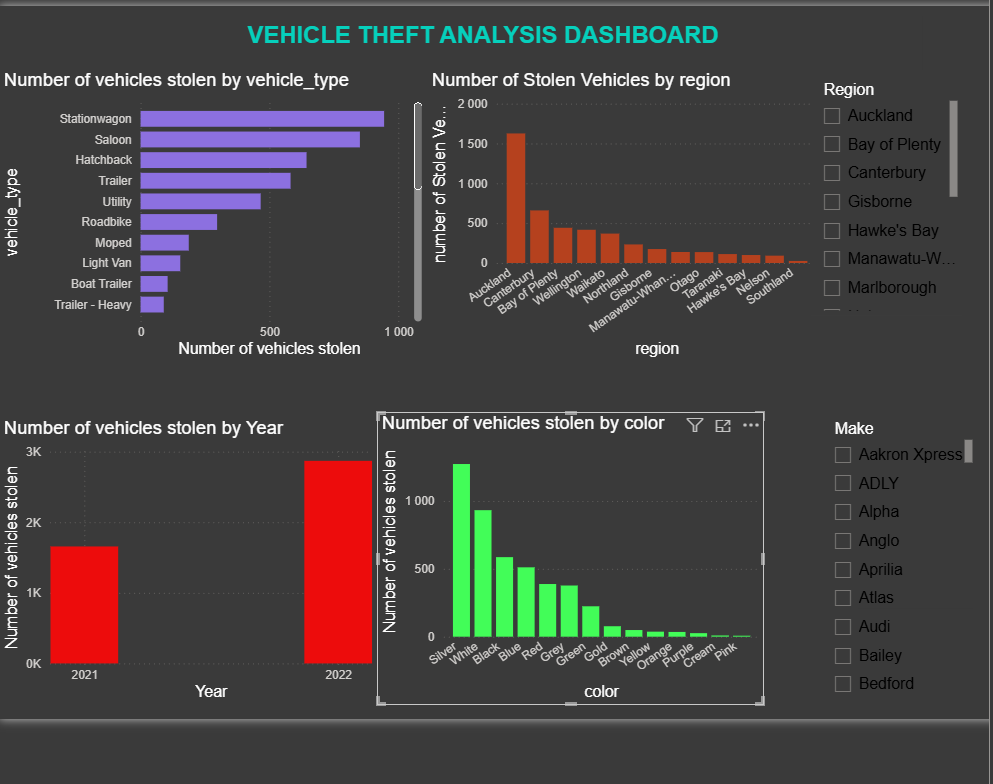

Layout of this report page (visuals, bound fields, positions):
{"tool":"powerbi","page":{"name":"Page 1","canvas":[1280,720],"ordinal":0},"visuals":[{"type":"columnChart","fields":{"Y":["CountNonNull(stolen_vehicles.vehicle_id)"],"Category":["stolen_vehicles.date_stolen.Variation.Date Hierarchy.Year"]},"box":[0,420.2,265.7,300],"z":0},{"type":"clusteredColumnChart","title":"Number of Stolen Vehicles by region","fields":{"Category":["locations.region"],"Y":["CountNonNull(stolen_vehicles.vehicle_id)"]},"box":[316.2,63.6,357.6,296],"z":1000},{"type":"barChart","fields":{"Y":["CountNonNull(stolen_vehicles.vehicle_id)"],"Category":["stolen_vehicles.vehicle_type"]},"box":[0,63.6,283.8,296],"z":2000},{"type":"columnChart","fields":{"Y":["CountNonNull(stolen_vehicles.vehicle_id)"],"Category":["stolen_vehicles.color"]},"box":[316.2,410.1,391.9,301],"z":3000},{"type":"slicer","fields":{"Values":["locations.region"]},"box":[711.1,63.6,109.1,249.5],"z":4000},{"type":"slicer","fields":{"Values":["make_details.make_name"]},"box":[711.1,410.1,120.2,290.9],"z":5000},{"type":"textbox","box":[45.5,10.1,739.4,53.5],"z":6000}]}

Visuals, with their boxes on the page's 1280x720 design canvas (x1, y1, x2, y2). These are canvas units, not pixel positions in the 993x784 screenshot, which may show the page scaled, cropped or inside an application window:
columnChart - CountNonNull(stolen_vehicles.vehicle_id) x stolen_vehicles.date_stolen.Variation.Date Hierarchy.Year: {"left": 0, "top": 420, "right": 266, "bottom": 720}
"Number of Stolen Vehicles by region" clusteredColumnChart: {"left": 316, "top": 64, "right": 674, "bottom": 360}
barChart - CountNonNull(stolen_vehicles.vehicle_id) x stolen_vehicles.vehicle_type: {"left": 0, "top": 64, "right": 284, "bottom": 360}
columnChart - CountNonNull(stolen_vehicles.vehicle_id) x stolen_vehicles.color: {"left": 316, "top": 410, "right": 708, "bottom": 711}
slicer - locations.region: {"left": 711, "top": 64, "right": 820, "bottom": 313}
slicer - make_details.make_name: {"left": 711, "top": 410, "right": 831, "bottom": 701}
textbox: {"left": 46, "top": 10, "right": 785, "bottom": 64}
